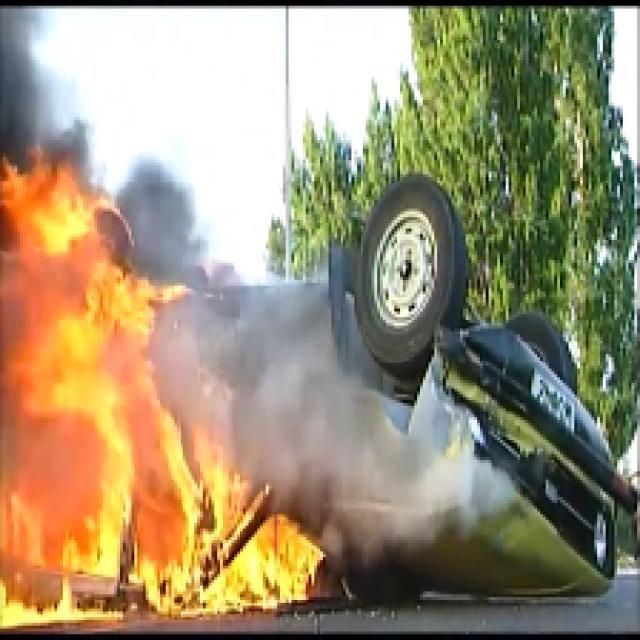Fire: (3, 157, 323, 626)
Smoke: (237, 309, 409, 520), (3, 3, 66, 166)
